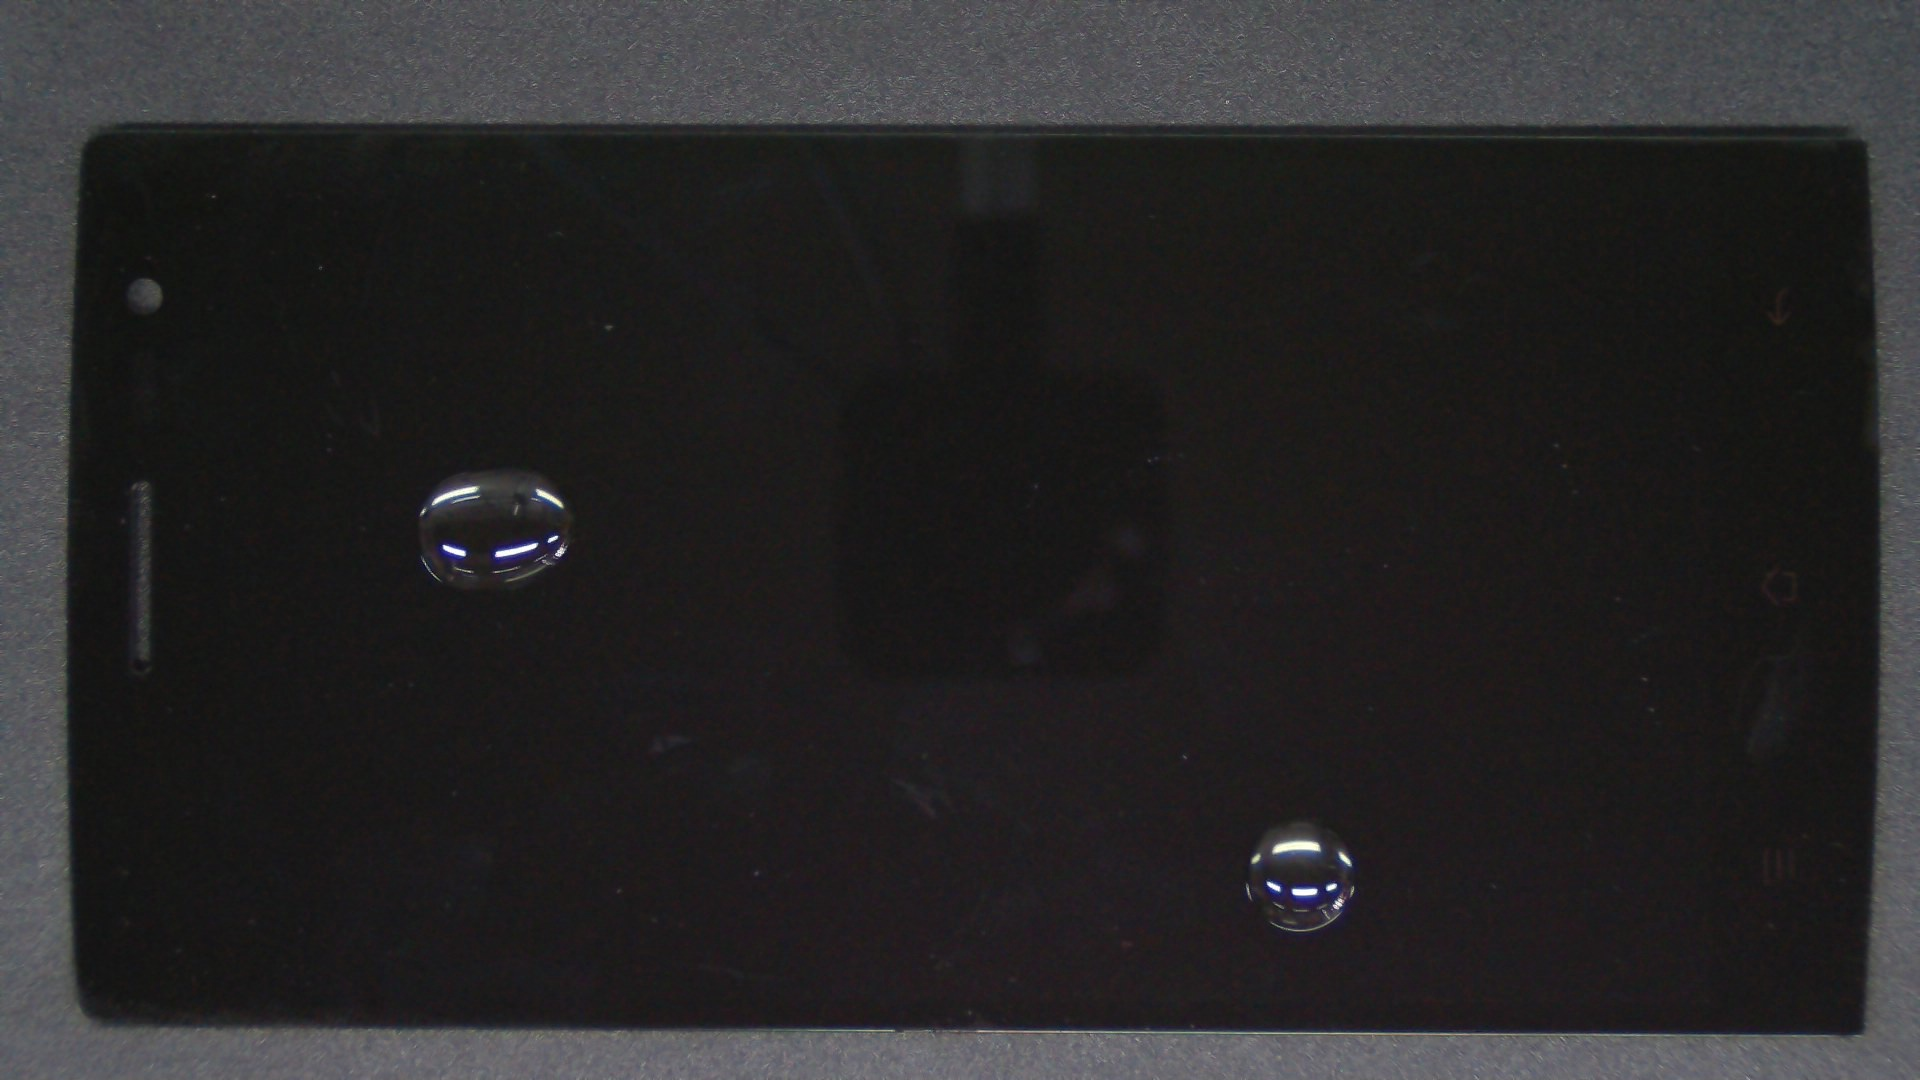oil: (651, 409, 1920, 1080), (249, 233, 746, 703)
